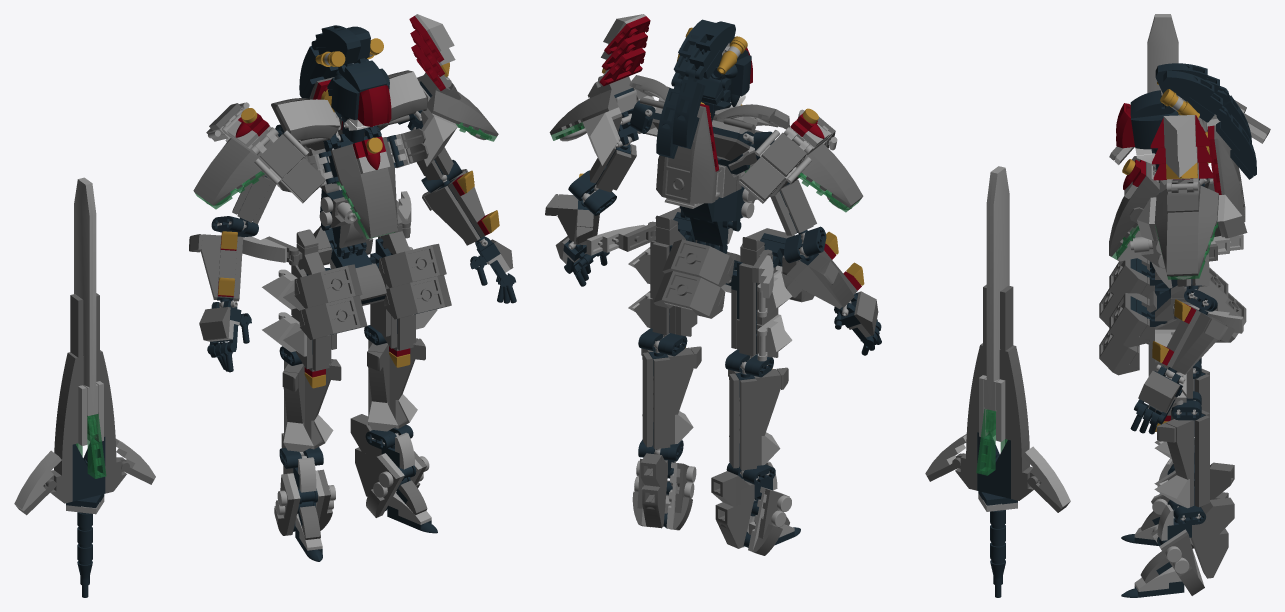
File: tetsuhime.dae
3 views of the same model, side by side, from view 1: azimuth 30°, elevation 25°; view 2: azimuth 150°, elevation 25°; view 3: azimuth 270°, elevation 25° (orthographic). The views are drawn at different scales.
Size of the model in its own units: 725 by 218 by 696.
